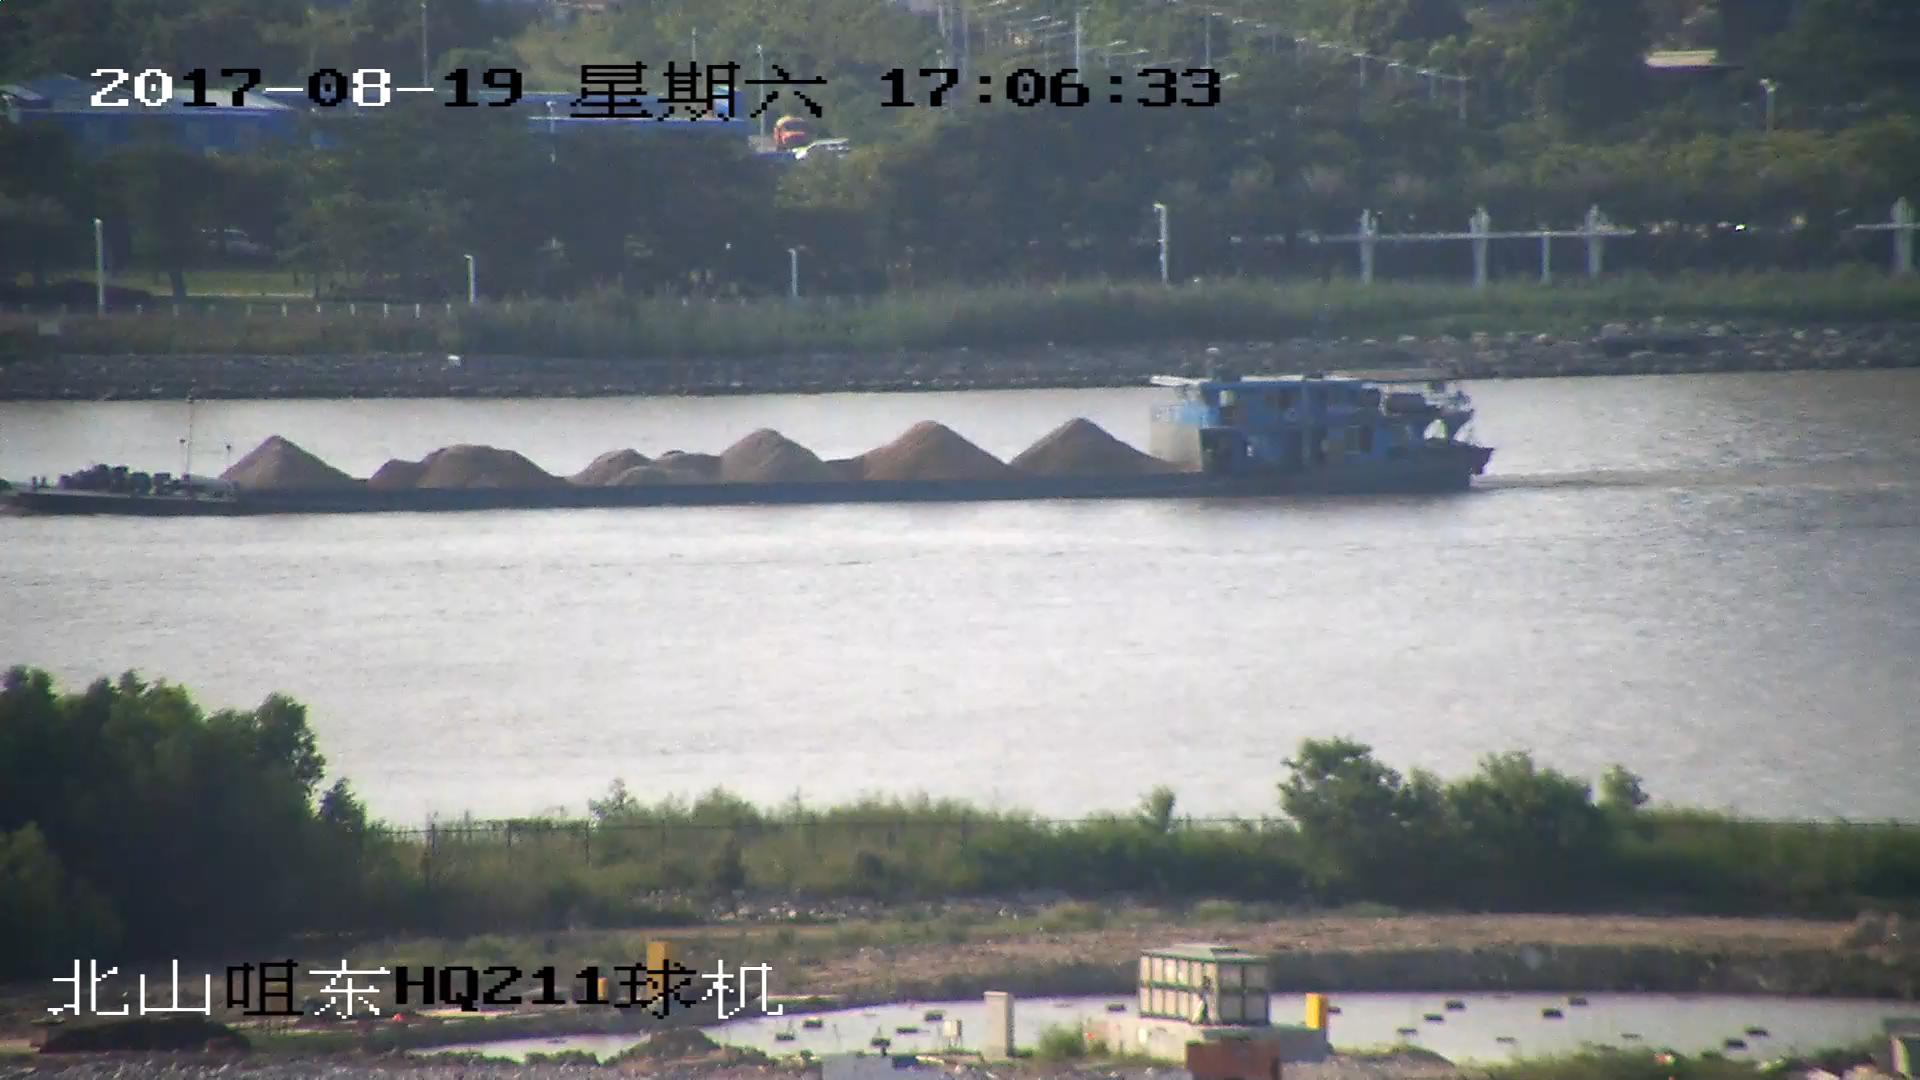Ship: (3, 352, 1493, 520)
